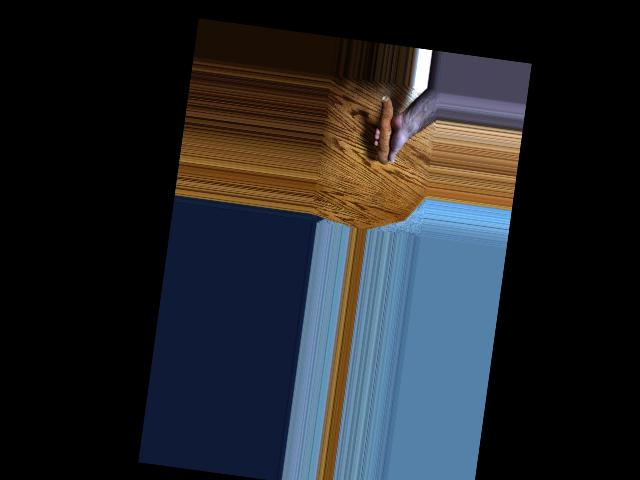sweet_potato: (374, 94, 403, 163)
